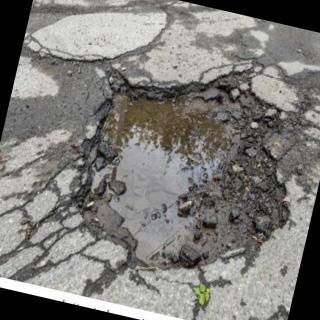pothole: (82, 68, 290, 275)
